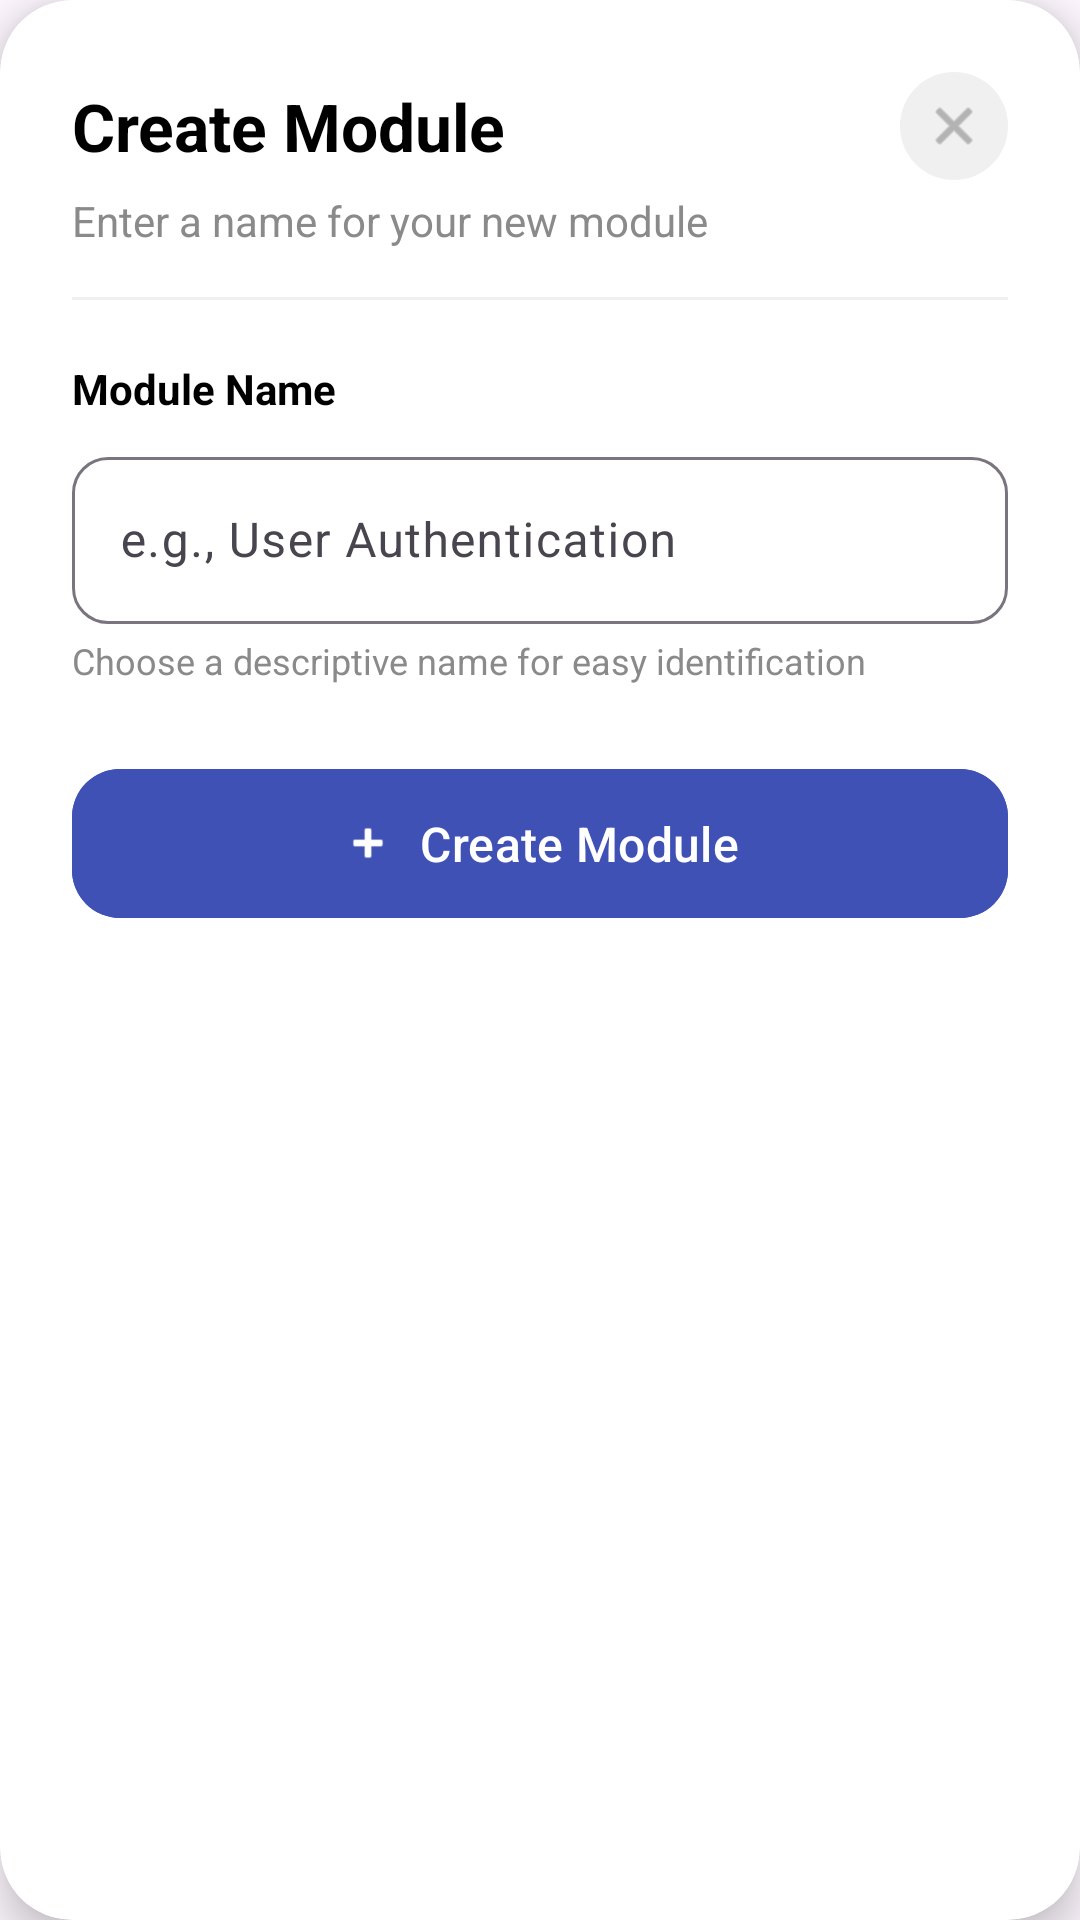

Icons on this 1080×1920 Android screen, each with the point to tap as [x,y]:
close clear cancel: [954,126]
